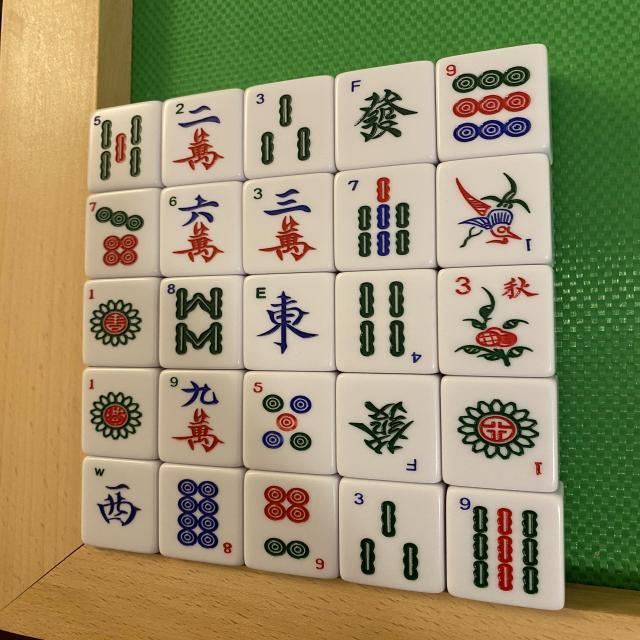bs3: (434, 264, 546, 373)
hdg: (334, 375, 438, 488), (334, 61, 432, 176)
hwe: (244, 276, 334, 376)
hww: (81, 457, 158, 552)
sb1: (441, 166, 546, 260)
sb3: (342, 484, 446, 597), (247, 82, 336, 182)
sb4: (334, 272, 434, 376)
sb5: (90, 102, 164, 194)
sb7: (338, 159, 436, 268)
sb8: (161, 274, 243, 370)
sb9: (446, 490, 561, 612)
sc2: (163, 93, 243, 188)
sc3: (244, 176, 334, 277)
sc6: (162, 182, 242, 276)
sc9: (166, 374, 236, 462)
sd1: (437, 376, 551, 492), (84, 372, 161, 464), (86, 276, 162, 366)
sd5: (243, 372, 334, 474)
sd6: (245, 472, 336, 578)
sd7: (84, 190, 160, 282)
sd8: (160, 464, 244, 564)
sd9: (438, 44, 548, 159)
